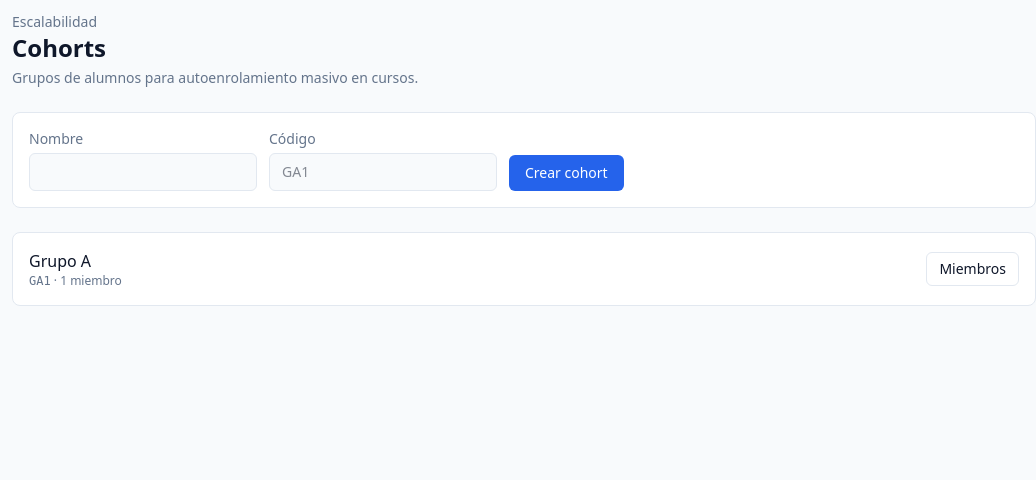
Test: Fase D frontend › lista cohorts y despliega miembros
expect the heading "Cohorts" is shown: met, box x1=12 y1=31 x2=106 y2=64
expect the text "Grupo A" is shown: met, box x1=29 y1=250 x2=91 y2=272
Click the button "Miembros": (973, 269) x1=926 y1=252 x2=1019 y2=286
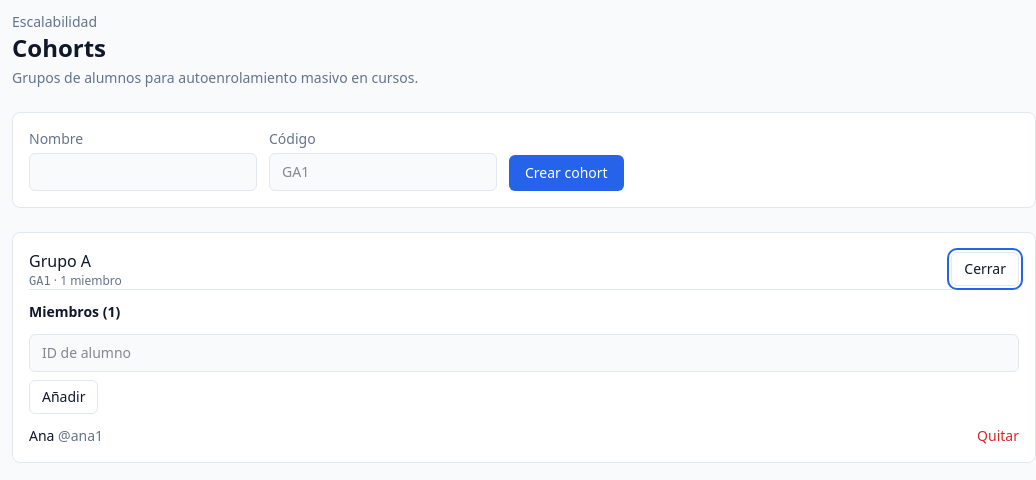
expect the heading "Miembros (1)" is shown: met, box x1=29 y1=302 x2=120 y2=321
expect the text "@ana1" is shown: met, box x1=54 y1=426 x2=103 y2=445
